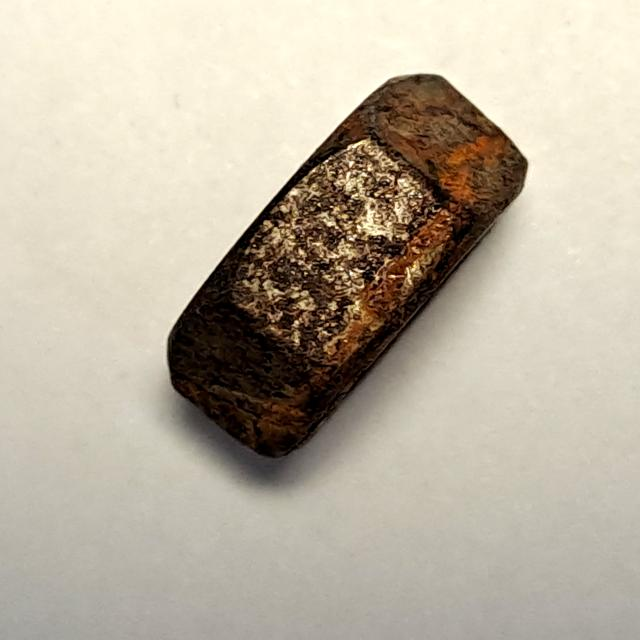Side_Rust: (160, 66, 547, 472)
